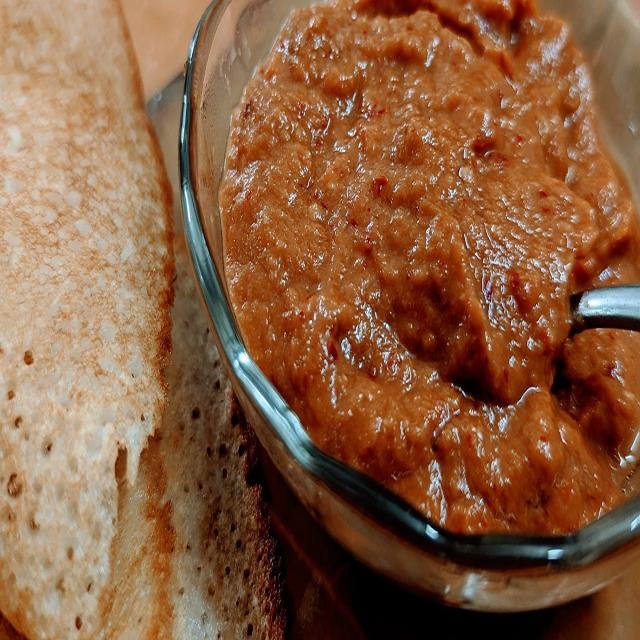kaara chutney: (204, 0, 640, 597)
